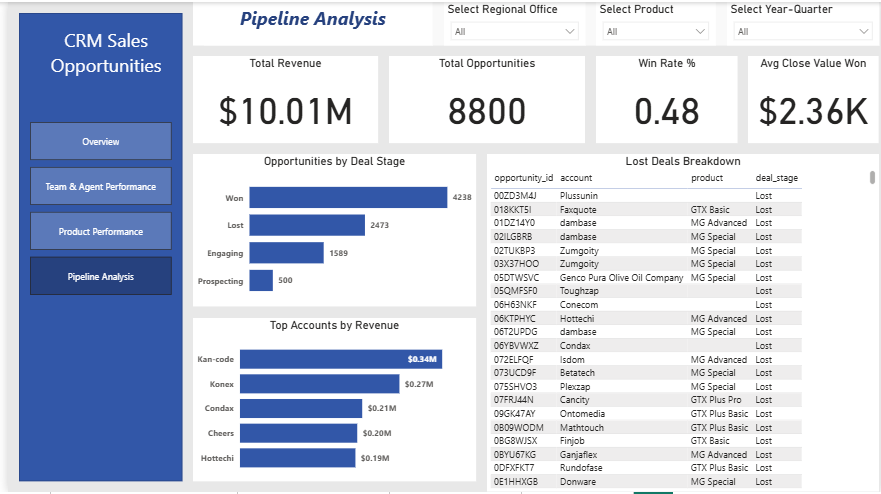

What the dashboard file says about the page in this screenshot:
{"tool":"powerbi","page":{"name":"Pipeline Analysis","canvas":[1280,720],"ordinal":3},"visuals":[{"type":"shape","box":[288,0,992,64],"z":0},{"type":"clusteredBarChart","title":"Opportunities by Deal Stage","fields":{"Category":["sales_pipeline.deal_stage"],"Y":["_Measures.Total Opportunities"]},"box":[272,224,416,224],"z":1000},{"type":"tableEx","title":"Lost Deals Breakdown","fields":{"Values":["sales_pipeline.opportunity_id","accounts.account","products.product","sales_pipeline.deal_stage"]},"box":[704,224,576,496],"z":2000},{"type":"card","title":"Total Revenue","fields":{"Values":["_Measures.Total Pipeline Value"]},"box":[272,80,272,128],"z":4000},{"type":"card","title":"Win Rate %","fields":{"Values":["_Measures.Win Rate %"]},"box":[864,80,208,128],"z":5000},{"type":"card","title":"Total Opportunities","fields":{"Values":["_Measures.Opportunities Count"]},"box":[560,80,288,128],"z":6000},{"type":"shape","box":[16,16,240,688],"z":7000},{"type":"card","title":"Avg Close Value Won","fields":{"Values":["_Measures.Avg Close Value Won"]},"box":[1088,80,192,128],"z":8000},{"type":"textbox","box":[16,32,256,128],"z":9000},{"type":"slicer","title":"Select Year-Quarter","fields":{"Values":["Date Table.Year-Quarter"]},"box":[1056,0,224,64],"z":10000},{"type":"slicer","title":"Select Product","fields":{"Values":["products.product"]},"box":[864,0,176,64],"z":11000},{"type":"slicer","title":"Select Regional Office","fields":{"Values":["sales_teams.regional_office"]},"box":[640,0,208,64],"z":12000},{"type":"pageNavigator","box":[32,176,208,256],"z":13000},{"type":"clusteredBarChart","title":"Top Accounts by Revenue","fields":{"Category":["sales_pipeline.account"],"Y":["_Measures.Total Revenue"]},"box":[272,464,416,240],"z":14000},{"type":"textbox","box":[272,0,352,64],"z":15000}]}

Visuals, with their boxes in screenshot pixels (x1, y1, x2, y2), scaled from the page's 1280x720 canvas onto the 881x494 screenshot:
shape: (198,0,880,44)
"Opportunities by Deal Stage" clusteredBarChart: (187,154,474,307)
"Lost Deals Breakdown" tableEx: (485,154,880,493)
"Total Revenue" card: (187,55,374,143)
"Win Rate %" card: (595,55,738,143)
"Total Opportunities" card: (385,55,584,143)
shape: (11,11,176,483)
"Avg Close Value Won" card: (749,55,880,143)
textbox: (11,22,187,110)
"Select Year-Quarter" slicer: (727,0,880,44)
"Select Product" slicer: (595,0,716,44)
"Select Regional Office" slicer: (440,0,584,44)
pageNavigator: (22,121,165,296)
"Top Accounts by Revenue" clusteredBarChart: (187,318,474,483)
textbox: (187,0,429,44)
